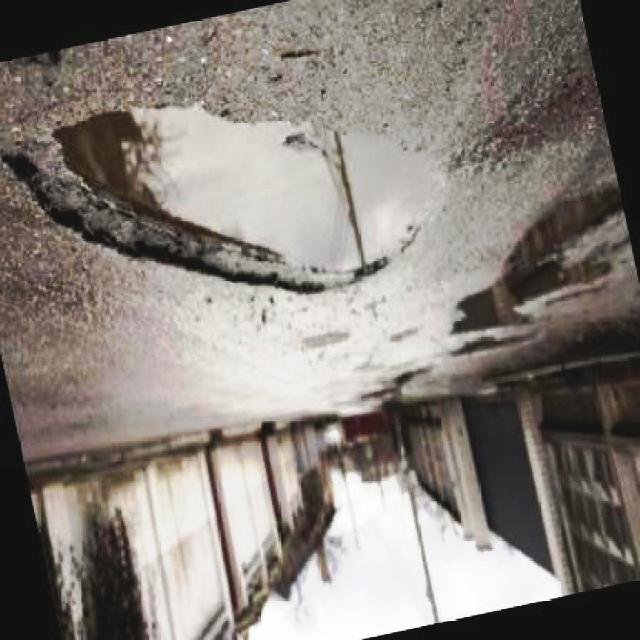pothole: (10, 95, 452, 298)
